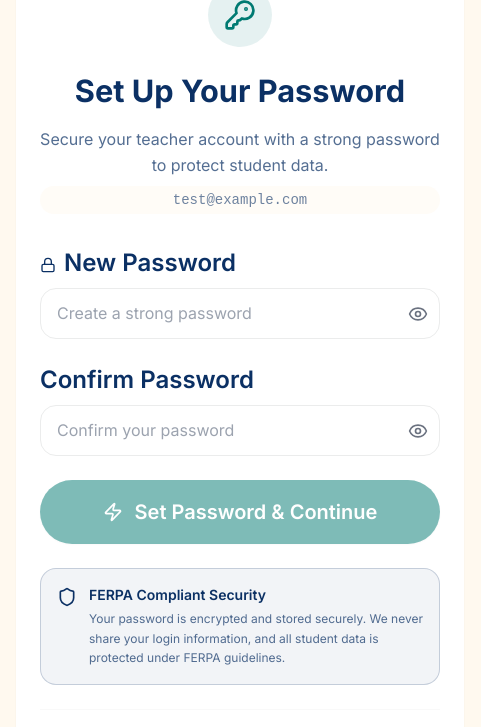
Test: PasswordSetupFlow Component › Form Submission › shows loading state during submission
Type "StrongPass123!" into the password field labelled "New Password".
click(240, 314); type("StrongPass123!")  # box [40,288,440,339]
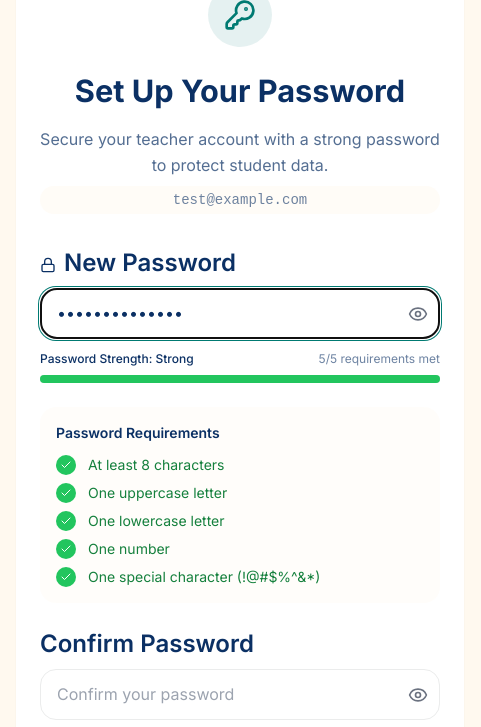
Type "StrongPass123!" into the password field labelled "Confirm Password".
click(240, 695); type("StrongPass123!")  # box [40,669,440,720]
(page scrolled)
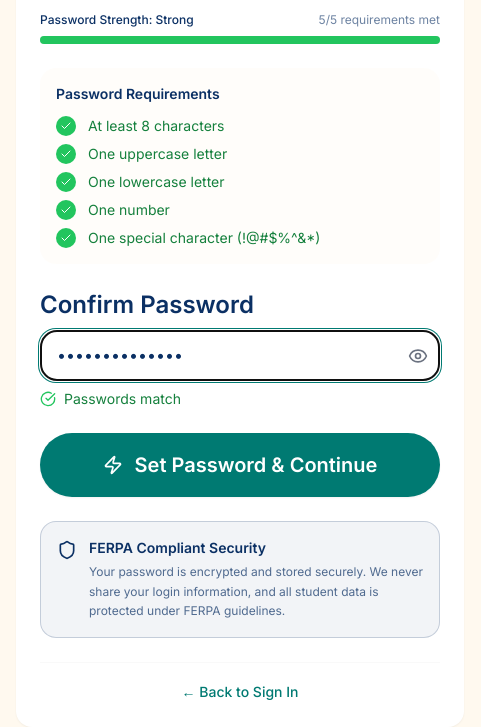
Click the button "Set Password & Continue".
click(240, 466)  # box [40,434,440,498]
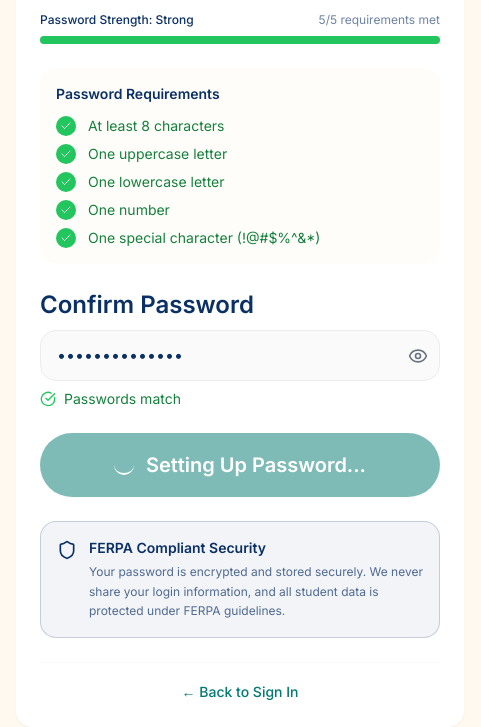
Expected: the button "Setting Up Password..." is disabled, [40,434,440,498]
